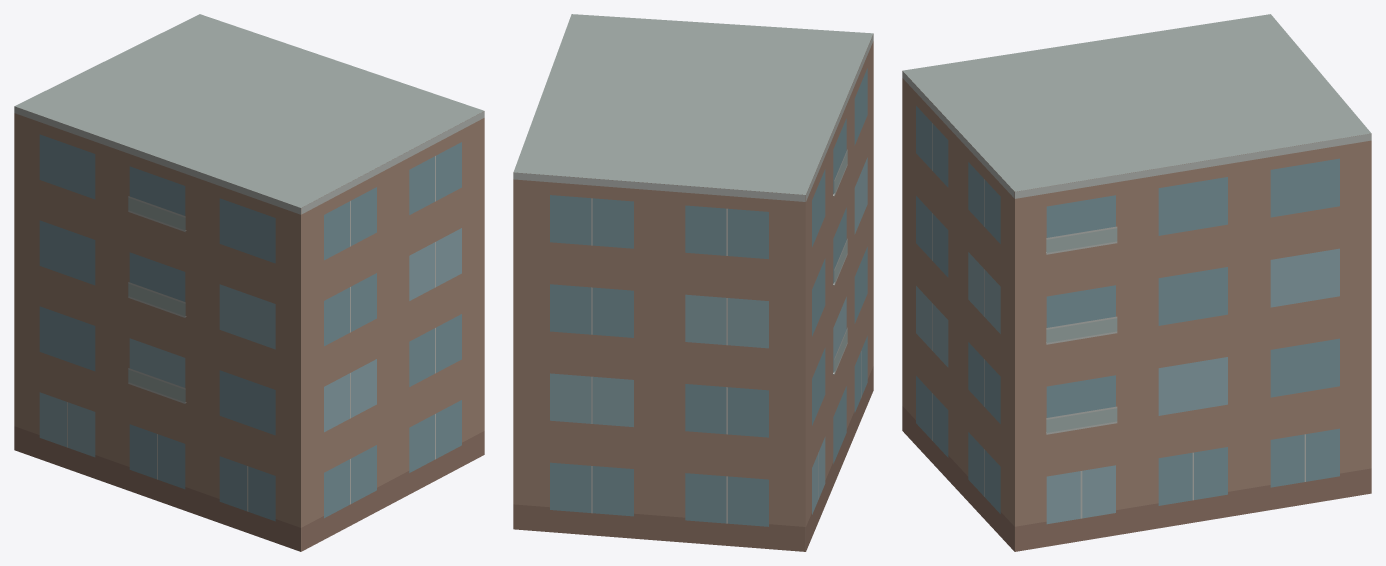
File: survey-upis-32847306.glb
The picture shows the model from 3 angles, left to right: view 1: azimuth 30°, elevation 25°; view 2: azimuth 150°, elevation 25°; view 3: azimuth 270°, elevation 25°; orthographic projection. The views are drawn at different scales.
Visible parts, largest first — view 1: survey-upis-32847306.tmp; view 2: survey-upis-32847306.tmp; view 3: survey-upis-32847306.tmp.
Part boxes in pixels (<box>): survey-upis-32847306.tmp: <box>14,14,484,551</box>; survey-upis-32847306.tmp: <box>513,14,873,551</box>; survey-upis-32847306.tmp: <box>902,14,1371,551</box>.
Size of the model in its own units: 13.09 by 12.35 by 14.6.
